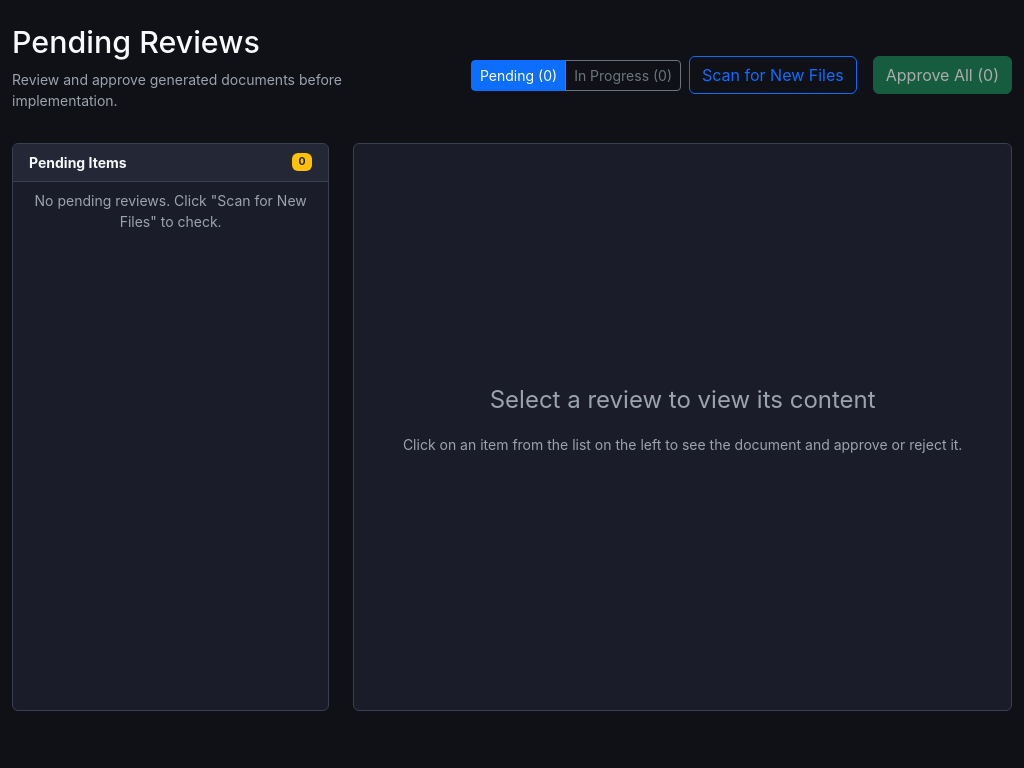
Test: PendingReviewDashboard › Scan Functionality › shows success message after scan finds files
The width and height of the screenshot is (1024, 768).
// Click scan button
Click the button "Scan for New Files" at (773, 75), box [689, 56, 857, 94]
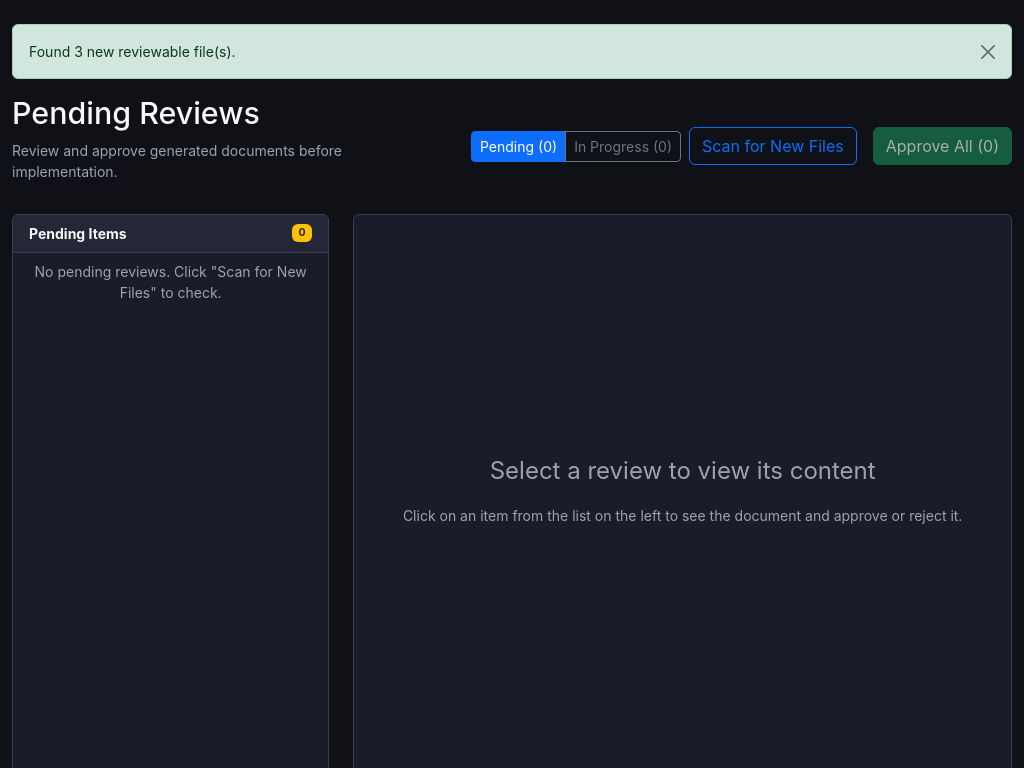
Expected: the message "Found 3 new reviewable file(s)." is shown, [12, 24, 1012, 79]
Expected: the message shows "Found 3 new reviewable file", [29, 43, 236, 60]
